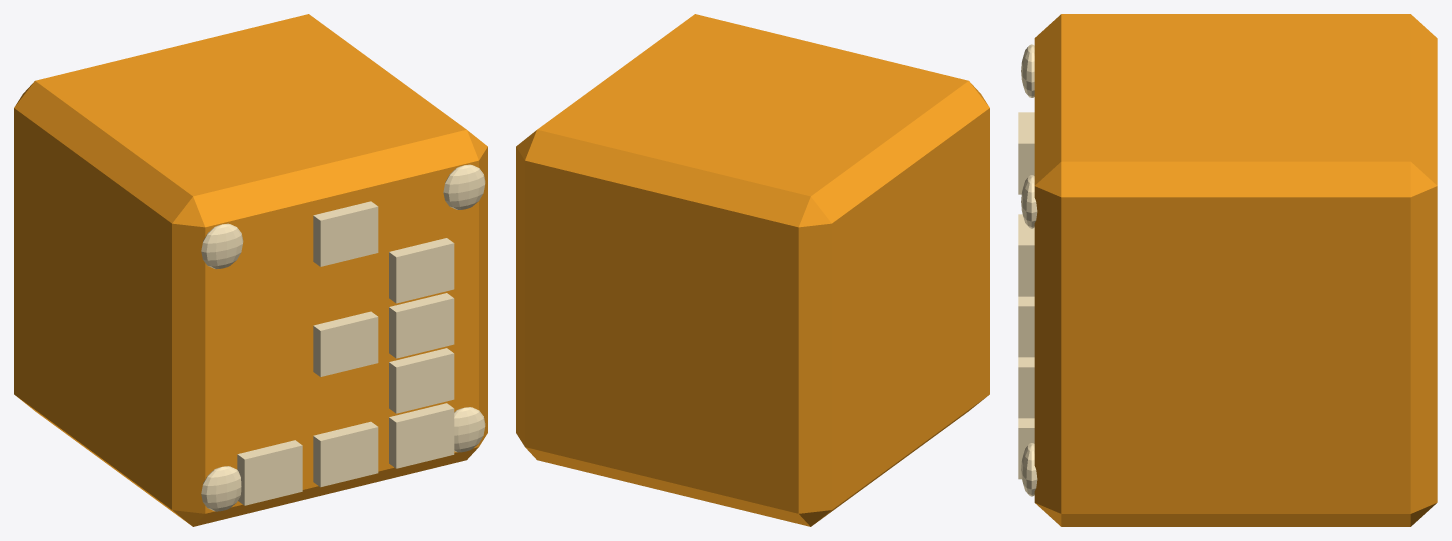
File: qblock.glb
The picture shows the model from 3 angles, left to right: view 1: azimuth 30°, elevation 25°; view 2: azimuth 150°, elevation 25°; view 3: azimuth 270°, elevation 25°; orthographic projection. The views are drawn at different scales.
Parts seen in each view (by area): view 1: qblock_block, qblock_q.001, qblock_q.003, qblock_q.005, qblock_q.004, qblock_q.002, qblock_q.006, qblock_q.007, qblock_q, qblock_rivet.002, qblock_rivet.003, qblock_rivet (+1 smaller); view 2: qblock_block; view 3: qblock_block, qblock_q.006, qblock_q.007, qblock_q.003, qblock_q.005, qblock_rivet.001, qblock_rivet.003, qblock_q.002, qblock_rivet.002.
Boxes of the visible parts, box(x1,y1,x2,y2) form: qblock_block: box(14, 14, 487, 526); qblock_q.001: box(313, 421, 378, 487); qblock_q.003: box(389, 348, 454, 413); qblock_q.005: box(389, 293, 454, 358); qblock_q.004: box(313, 311, 378, 376); qblock_q.002: box(389, 403, 454, 468); qblock_q.006: box(389, 238, 454, 303); qblock_q.007: box(313, 201, 378, 266); qblock_q: box(237, 440, 302, 505); qblock_rivet.002: box(201, 223, 243, 269); qblock_rivet.003: box(443, 164, 485, 209); qblock_rivet: box(201, 466, 241, 511); qblock_block: box(516, 14, 989, 526); qblock_block: box(1034, 14, 1437, 526); qblock_q.006: box(1018, 214, 1034, 296); qblock_q.007: box(1018, 112, 1034, 194); qblock_q.003: box(1018, 357, 1034, 418); qblock_q.005: box(1018, 296, 1034, 357); qblock_rivet.001: box(1021, 443, 1037, 496); qblock_rivet.003: box(1021, 175, 1037, 228); qblock_q.002: box(1018, 418, 1034, 479); qblock_rivet.002: box(1021, 44, 1034, 97).
Size of the model in its own units: 0.3 by 0.3 by 0.312.
